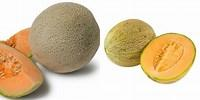Melon Ripe: (29, 1, 100, 74), (140, 32, 197, 85), (0, 40, 45, 98), (104, 18, 156, 67)
